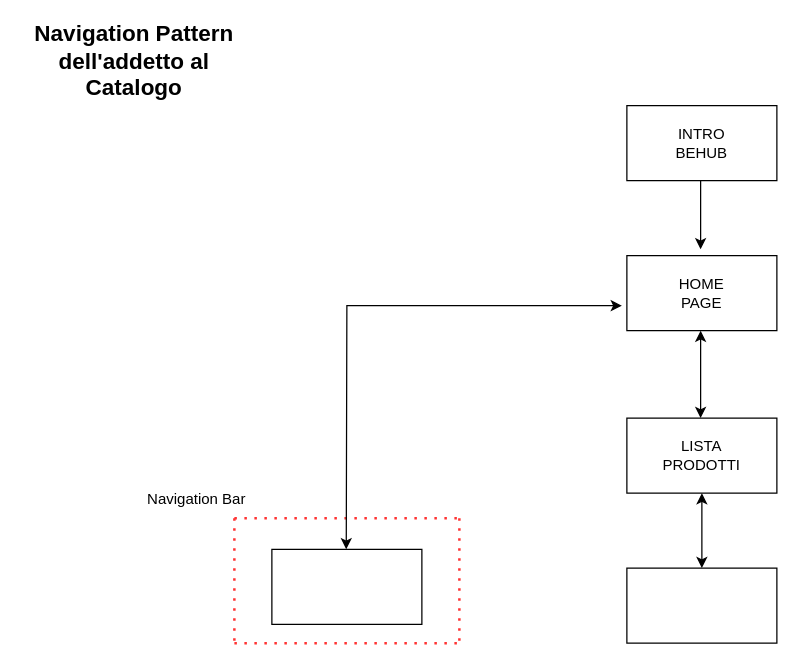
Some shapes in this 799 by 668 pixel diagram are drawn without their labels. The shapes that lost their labels are listed below. From the top down, each one's centre as x and y in pixels, then its label:
pixel 346 586: Area Personale
pixel 701 605: DETTAGLIO PRODOTTO
